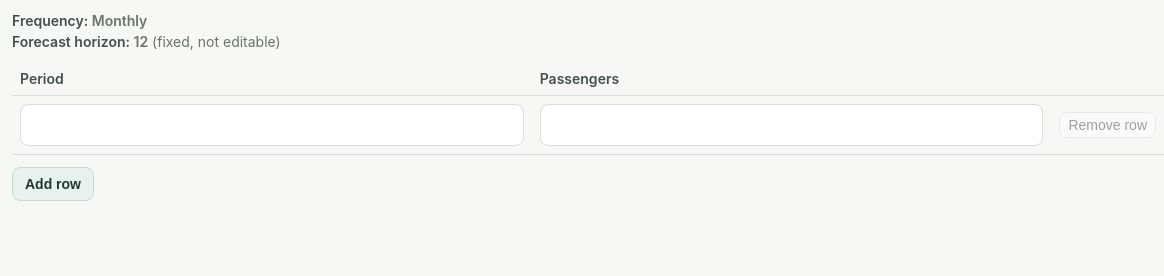
Test case: HistorySeriesInput (Project Spec S0250) › adds a row when Add row is clicked, preserving the first row's values
Type "2026-01" into the field named "Period" at {"x": 272, "y": 125}, box [20, 104, 524, 146]
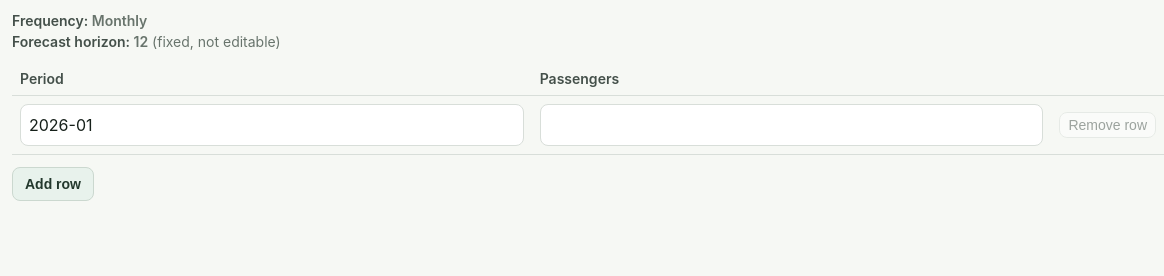
Type "112" into the number field named "Passengers" at {"x": 792, "y": 125}, box [540, 104, 1043, 146]
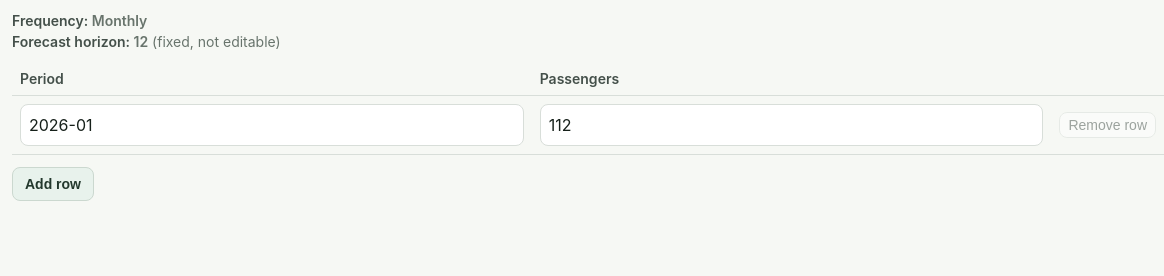
Click the button "Add row" at {"x": 53, "y": 184}, box [12, 167, 94, 201]
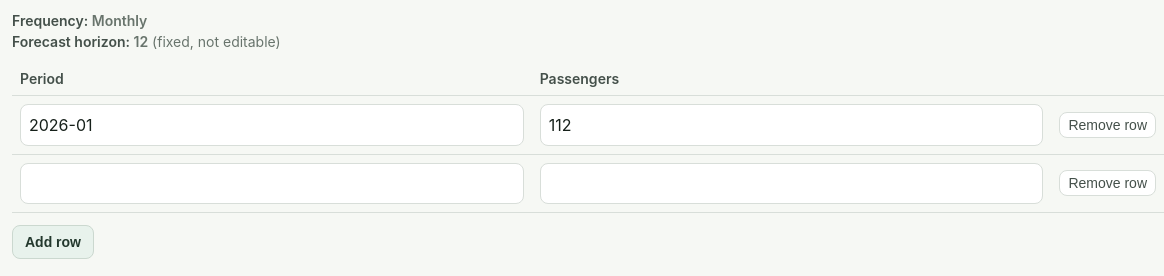
expect the number of fields named "Period" is 2: met, box [20, 104, 524, 146]; [20, 163, 524, 204]
